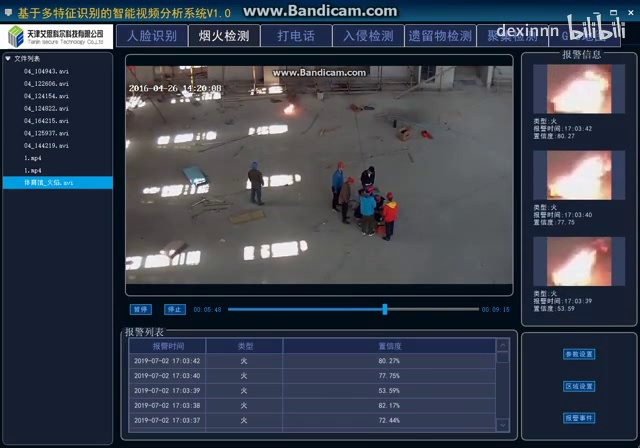fire: (282, 99, 297, 117)
